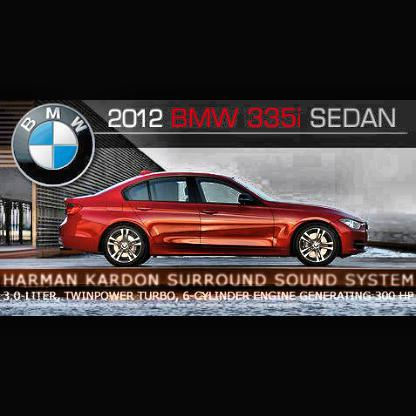BMW 3 Series Sedan 2012: (59, 170, 372, 267)
